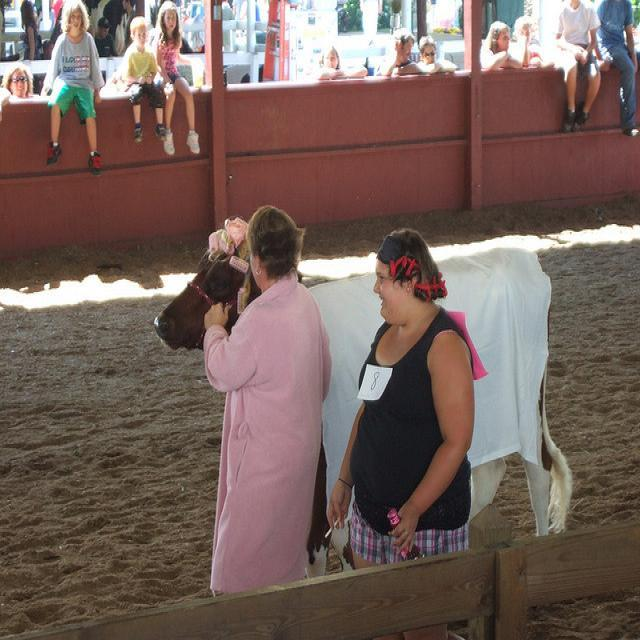cow: (151, 217, 570, 579)
